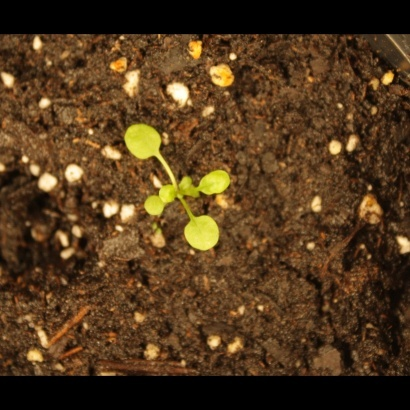leaf: (123, 123, 169, 162), (181, 213, 221, 255), (197, 168, 240, 198), (143, 192, 167, 217), (156, 182, 179, 205), (176, 174, 199, 197)
